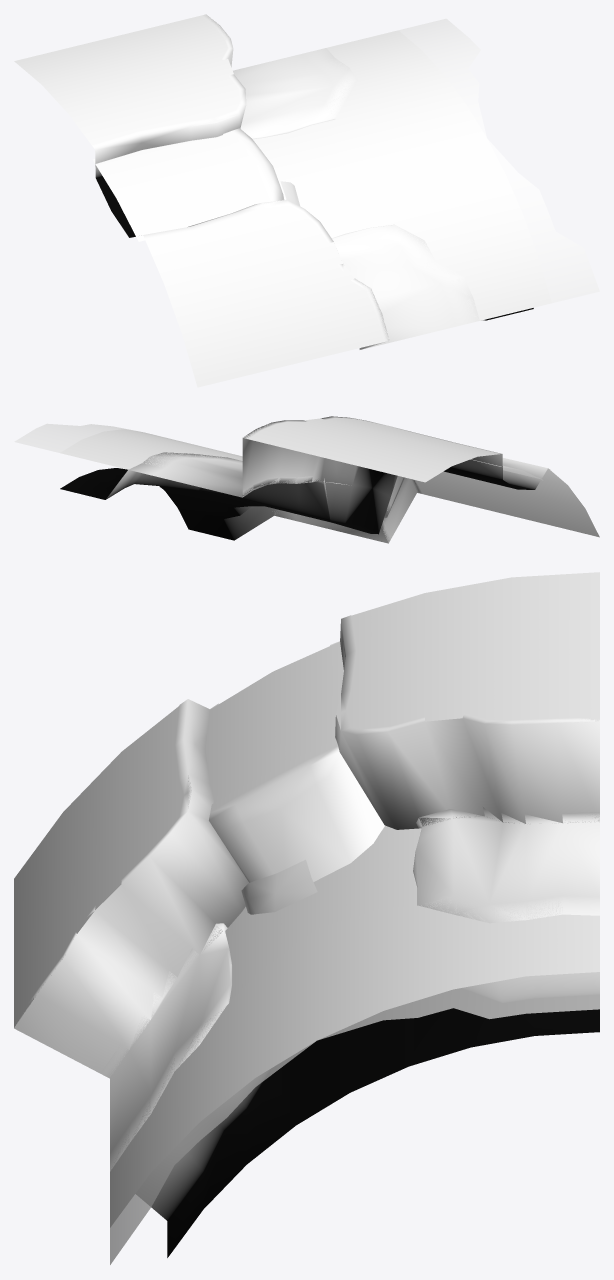
The model's file is grd_Me_R_2.dae.
3 views of the same model, one above another, from view 1: azimuth 30°, elevation 25°; view 2: azimuth 150°, elevation 25°; view 3: azimuth 270°, elevation 25° (orthographic). The views are drawn at different scales.
Parts seen in each view (by area): view 1: grd_Me_R_2; view 2: grd_Me_R_2; view 3: grd_Me_R_2.
Boxes of the visible parts, x1,y1,x2,y2 form: grd_Me_R_2: (14, 14, 599, 387); grd_Me_R_2: (14, 416, 599, 543); grd_Me_R_2: (14, 572, 599, 1264).
Size of the model in its own units: 576 by 308 by 423.
10 materials, 1 textured.
